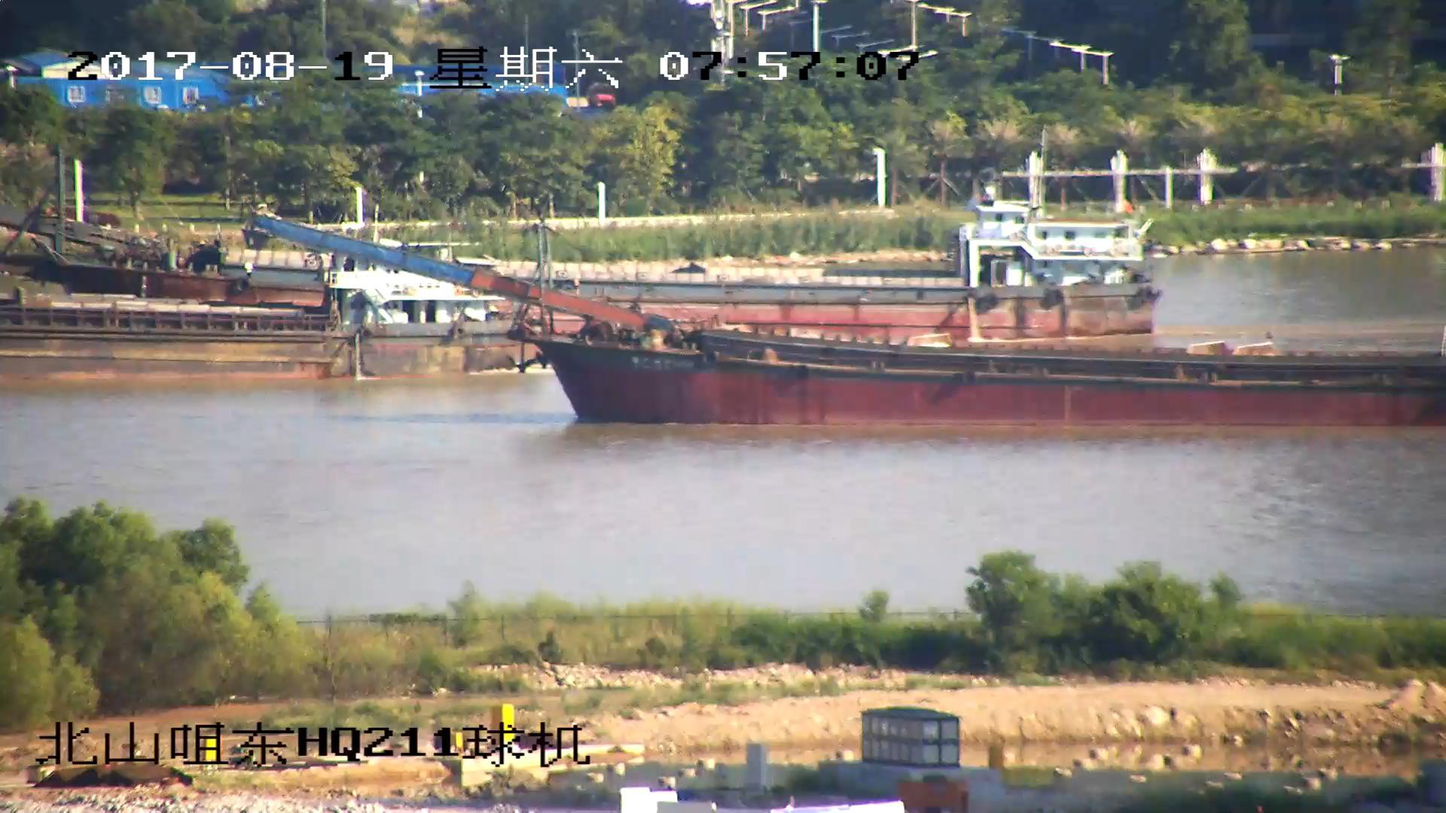bulk cargo carrier: (255, 214, 1445, 430), (0, 140, 1161, 340), (0, 271, 520, 388)
